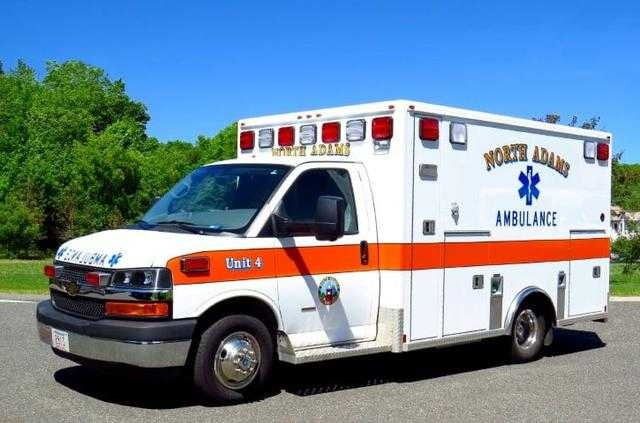Ambulance: (34, 97, 596, 423)
